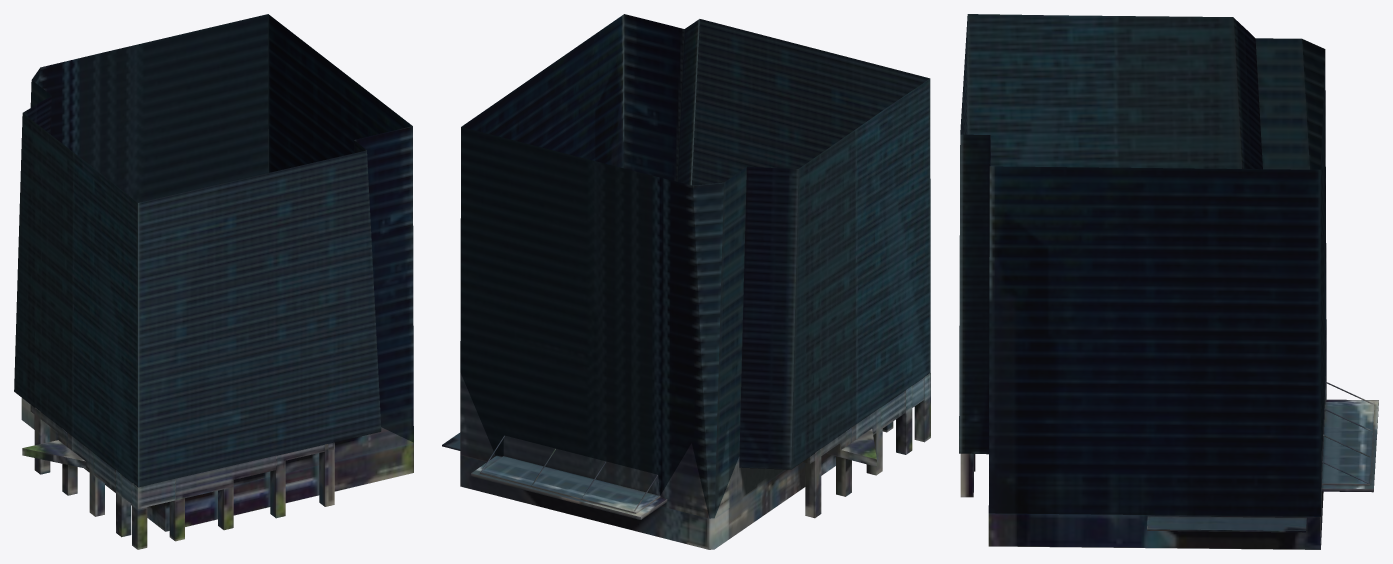
3 renders of one model, left to right at view 1: azimuth 30°, elevation 25°; view 2: azimuth 150°, elevation 25°; view 3: azimuth 270°, elevation 25°, orthographic. The views are drawn at different scales.
Visible parts, largest first — view 1: geometry_1; view 2: geometry_1; view 3: geometry_1.
Part boxes in pixels (x1=…): geometry_1: x1=14, y1=14, x2=413, y2=549; geometry_1: x1=442, y1=14, x2=930, y2=549; geometry_1: x1=959, y1=14, x2=1378, y2=549.
Bounding box in the file's own units: 62.98 × 59.87 × 59.99.
Materials: 2 (2 with a texture image).
